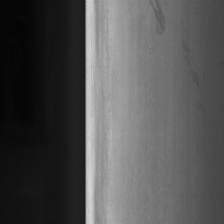water_spot: (180, 16, 206, 110), (146, 0, 170, 37)
